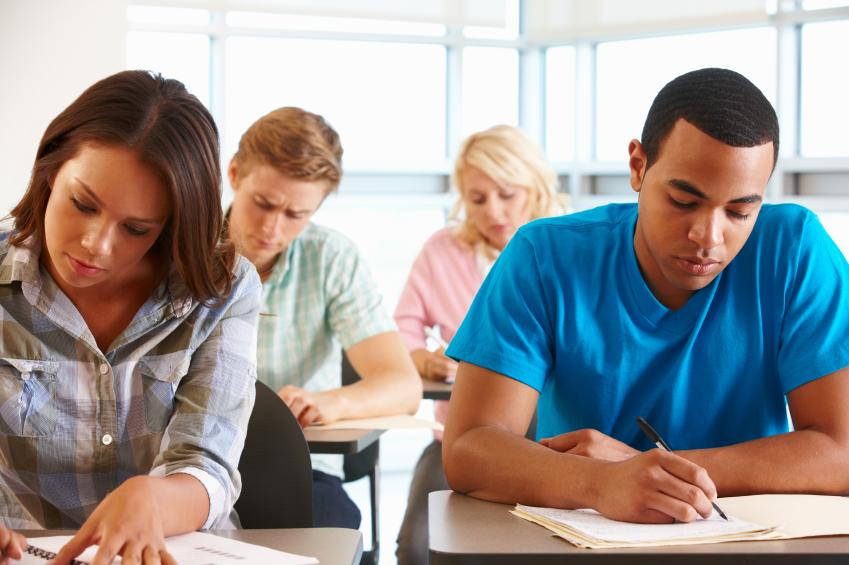student: (1, 47, 313, 563), (569, 74, 849, 528), (228, 81, 433, 439), (391, 101, 582, 311)
